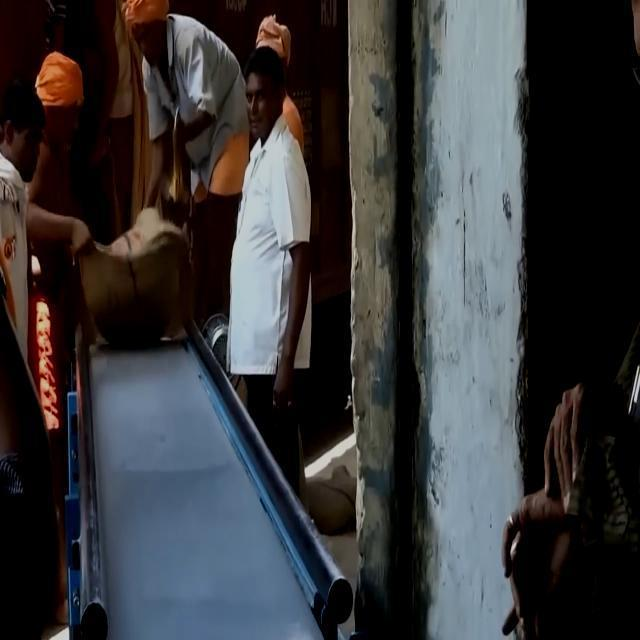gunny_bag: (70, 203, 192, 352)
